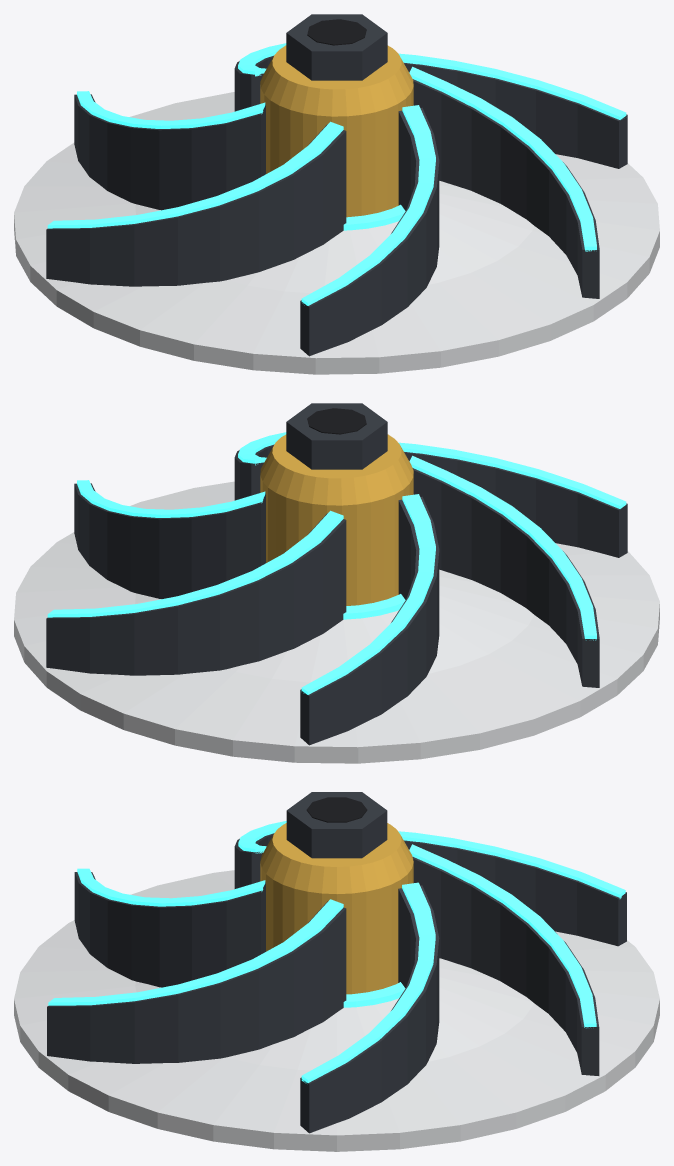
The model's file is impeller_space.glb.
The picture shows the model from 3 angles, top to bottom: view 1: azimuth 30°, elevation 25°; view 2: azimuth 150°, elevation 25°; view 3: azimuth 270°, elevation 25°; orthographic projection.
Parts seen in each view (by area): view 1: impeller_space; view 2: impeller_space; view 3: impeller_space.
Part boxes in pixels (x1,y1,x2,y2): impeller_space: [14, 14, 659, 374]; impeller_space: [14, 403, 659, 763]; impeller_space: [14, 792, 659, 1151].
Size of the model in its own units: 0.16 by 0.0563 by 0.16.
